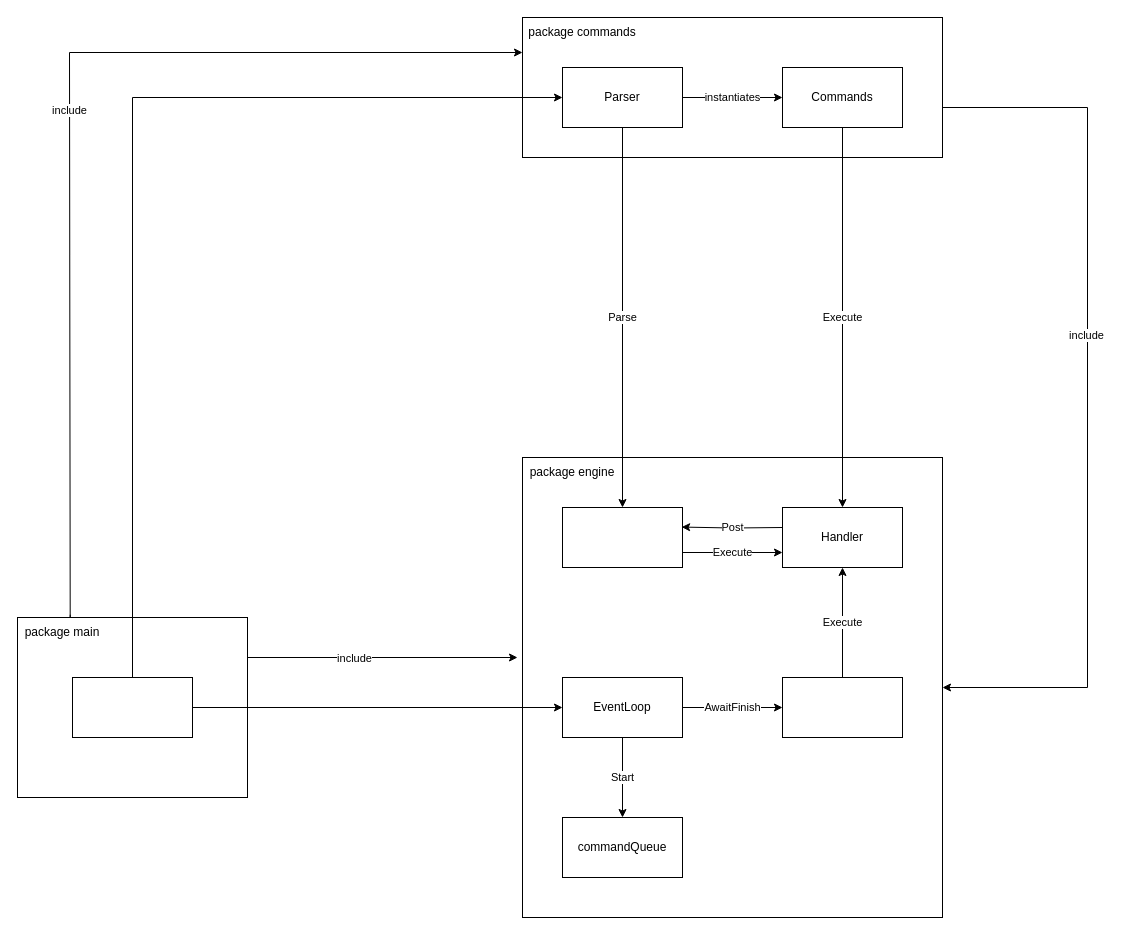
Image size: 1121x935. Some labels were removed from this diagram. Each missing label, with the centre of its shape:
"CmdExecutor" goes at (x=842, y=707).
"Command" goes at (x=622, y=537).
"main" goes at (x=132, y=707).
